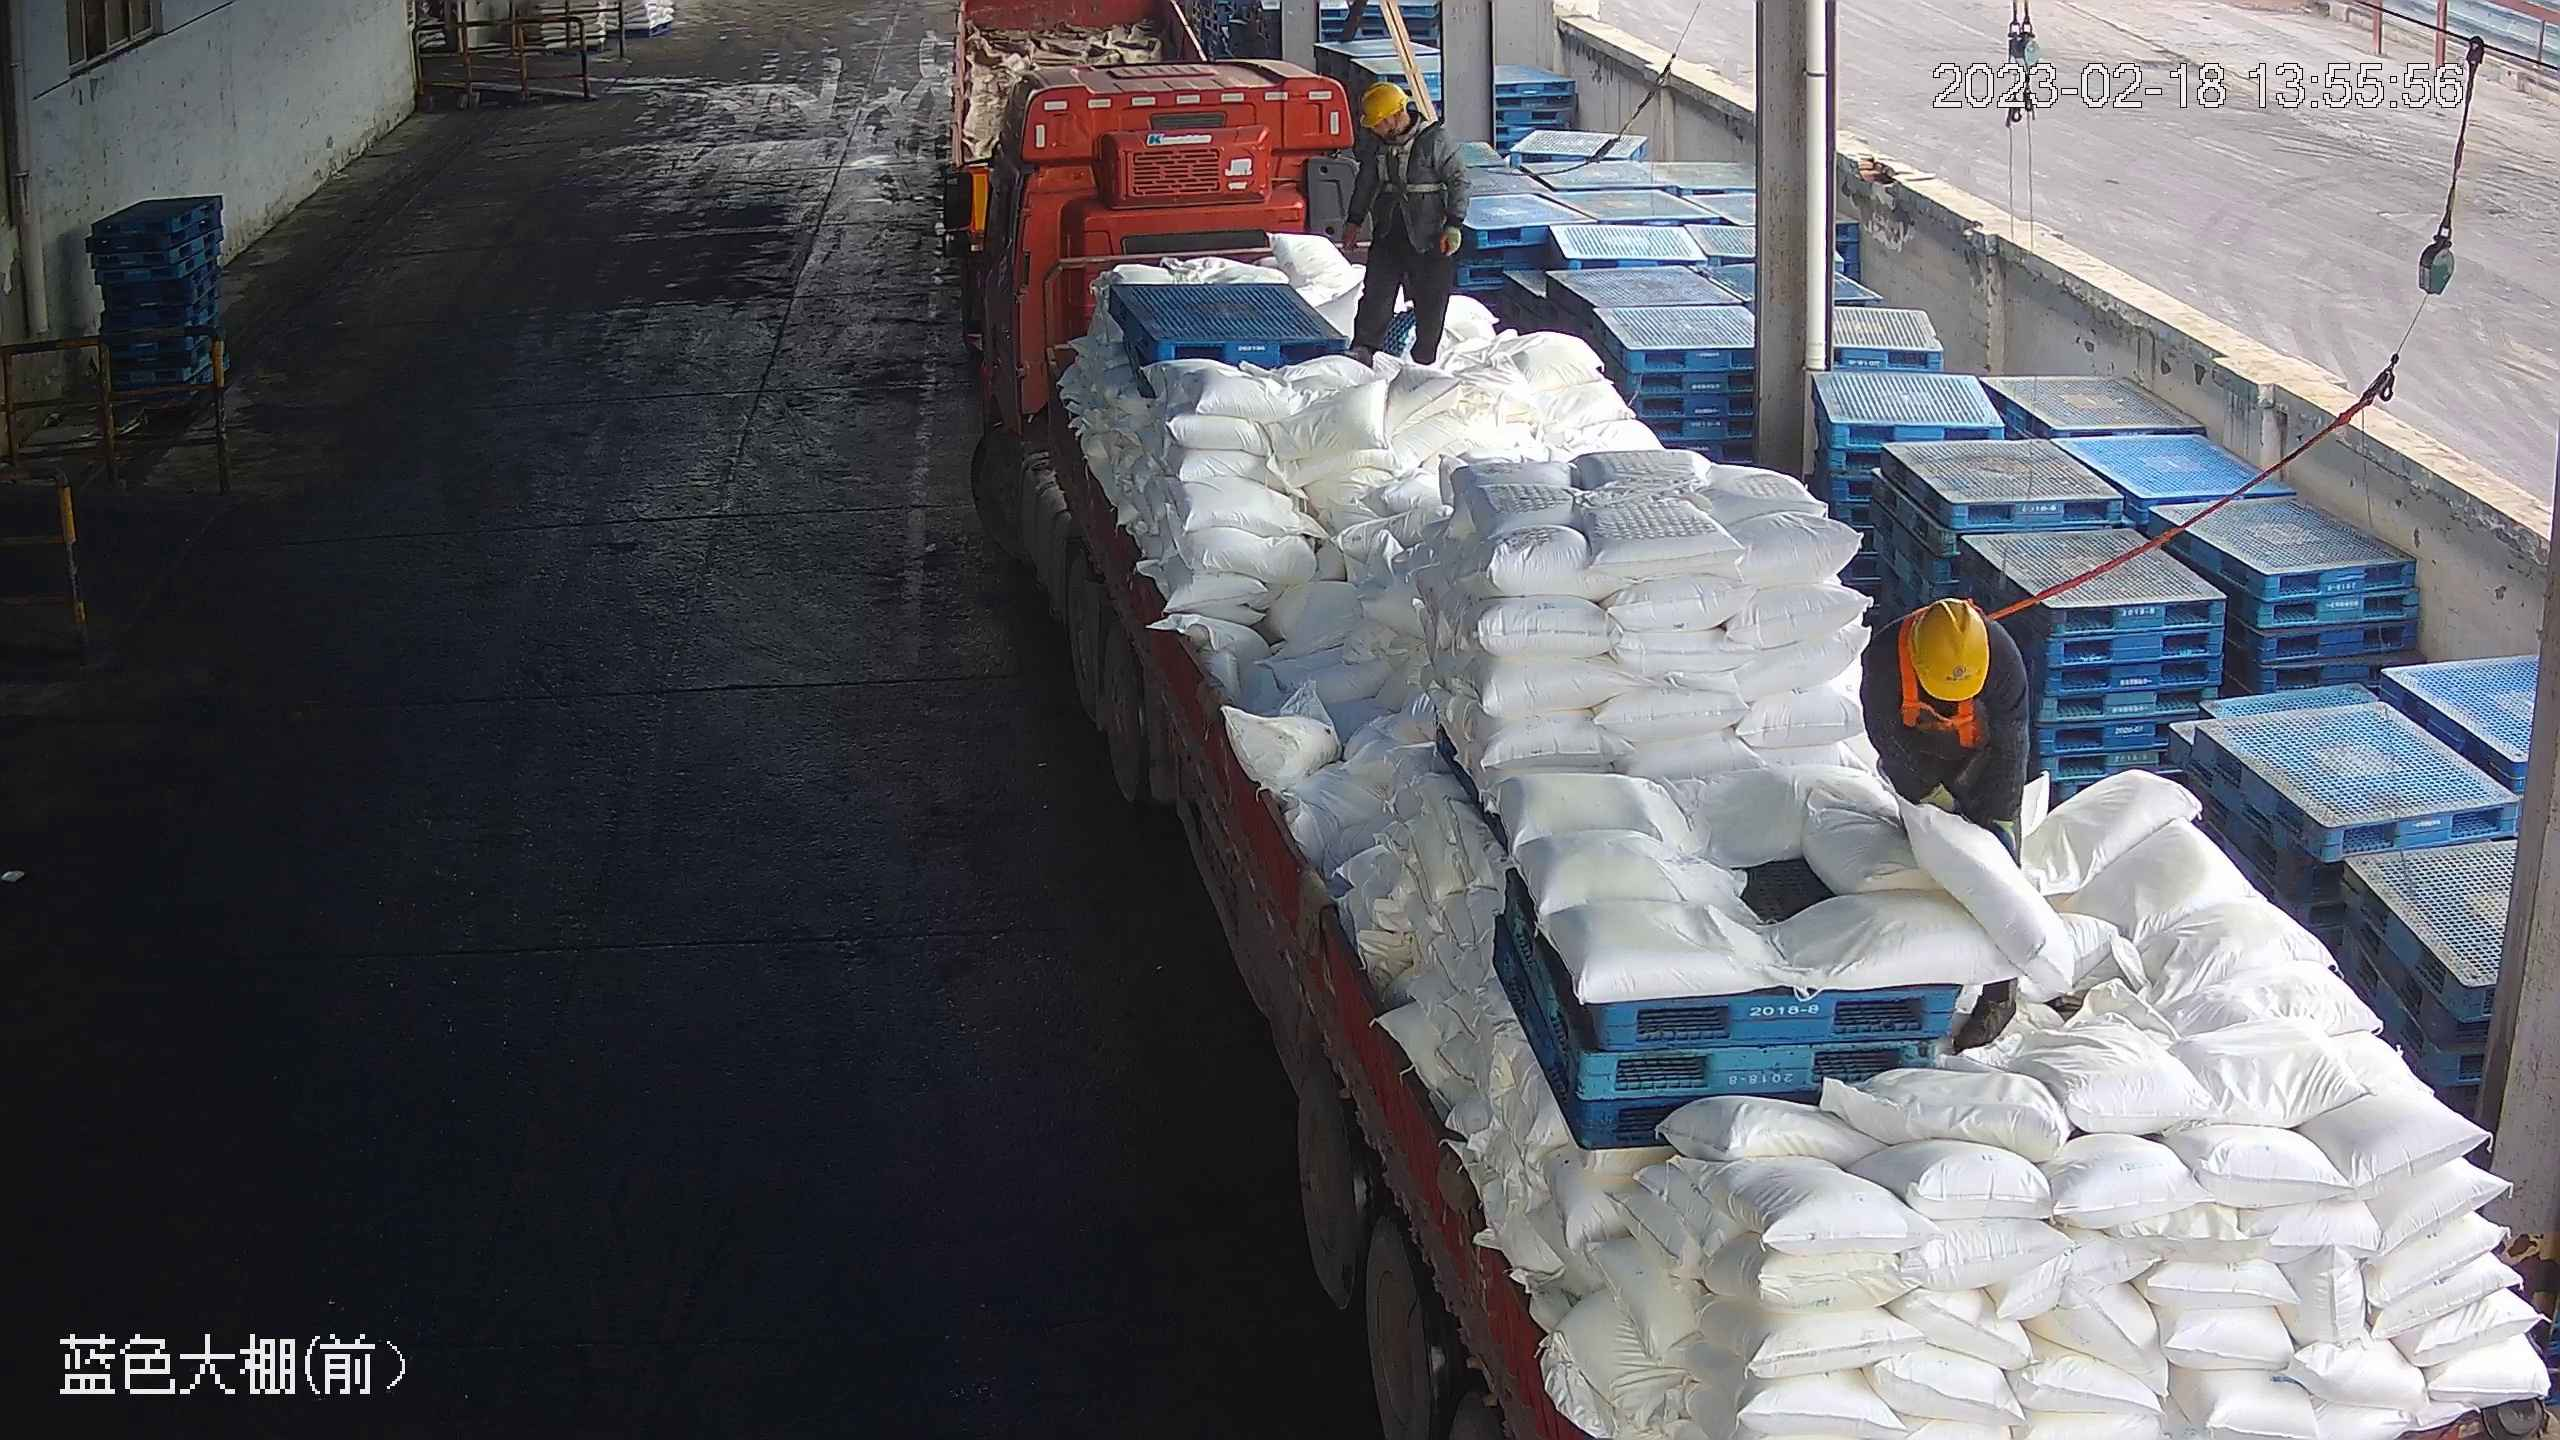belt: (1904, 637, 1983, 741), (1374, 128, 1438, 195)
head: (1868, 597, 2019, 710), (1359, 78, 1455, 163)
helmet: (1902, 596, 1990, 702), (1360, 79, 1409, 126)
people: (1858, 597, 2039, 864), (1344, 78, 1471, 370)
truck: (939, 60, 2558, 1440)
